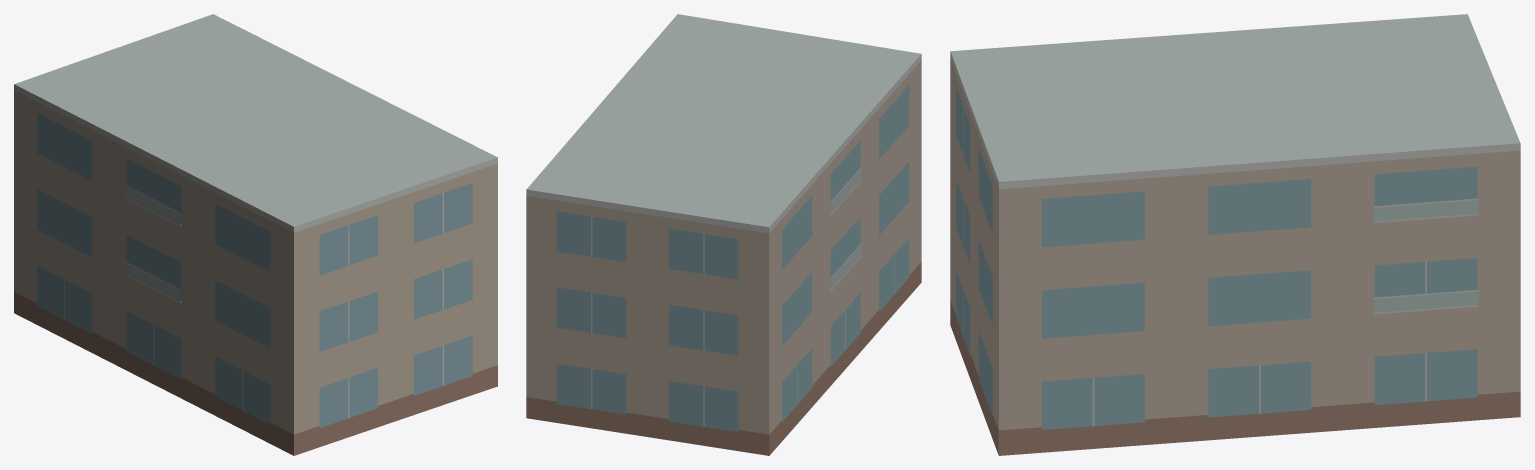
Rendered from survey-upis-32887229.glb.
The picture shows the model from 3 angles, left to right: view 1: azimuth 30°, elevation 25°; view 2: azimuth 150°, elevation 25°; view 3: azimuth 270°, elevation 25°; orthographic projection. The views are drawn at different scales.
Visible parts, largest first — view 1: survey-upis-32887229.tmp; view 2: survey-upis-32887229.tmp; view 3: survey-upis-32887229.tmp.
Part boxes in pixels (box(x1,y1,x2,y2)): survey-upis-32887229.tmp: box(14, 14, 497, 455); survey-upis-32887229.tmp: box(526, 14, 921, 455); survey-upis-32887229.tmp: box(950, 14, 1520, 455).
Bounding box in the file's own units: 12.04 × 9.15 × 17.27.
